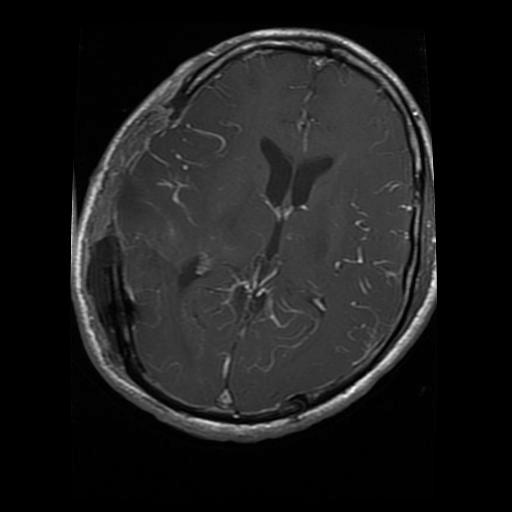Tumour-Glioma: (78, 225, 160, 382)
